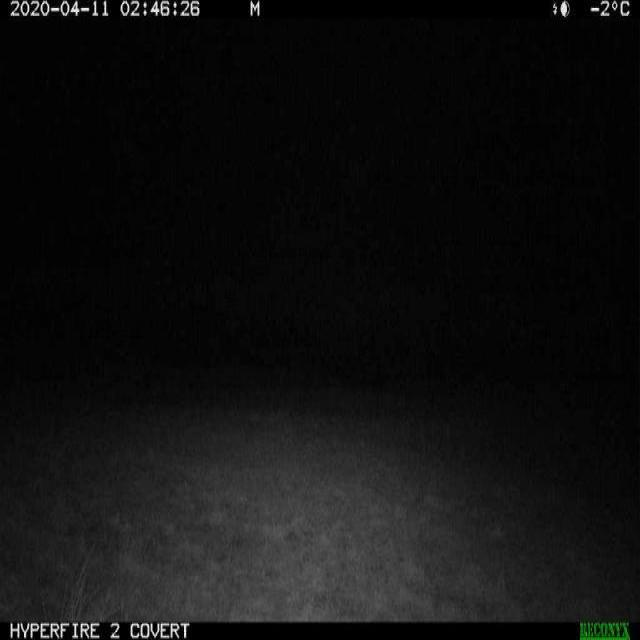deer: (596, 383, 640, 513)
